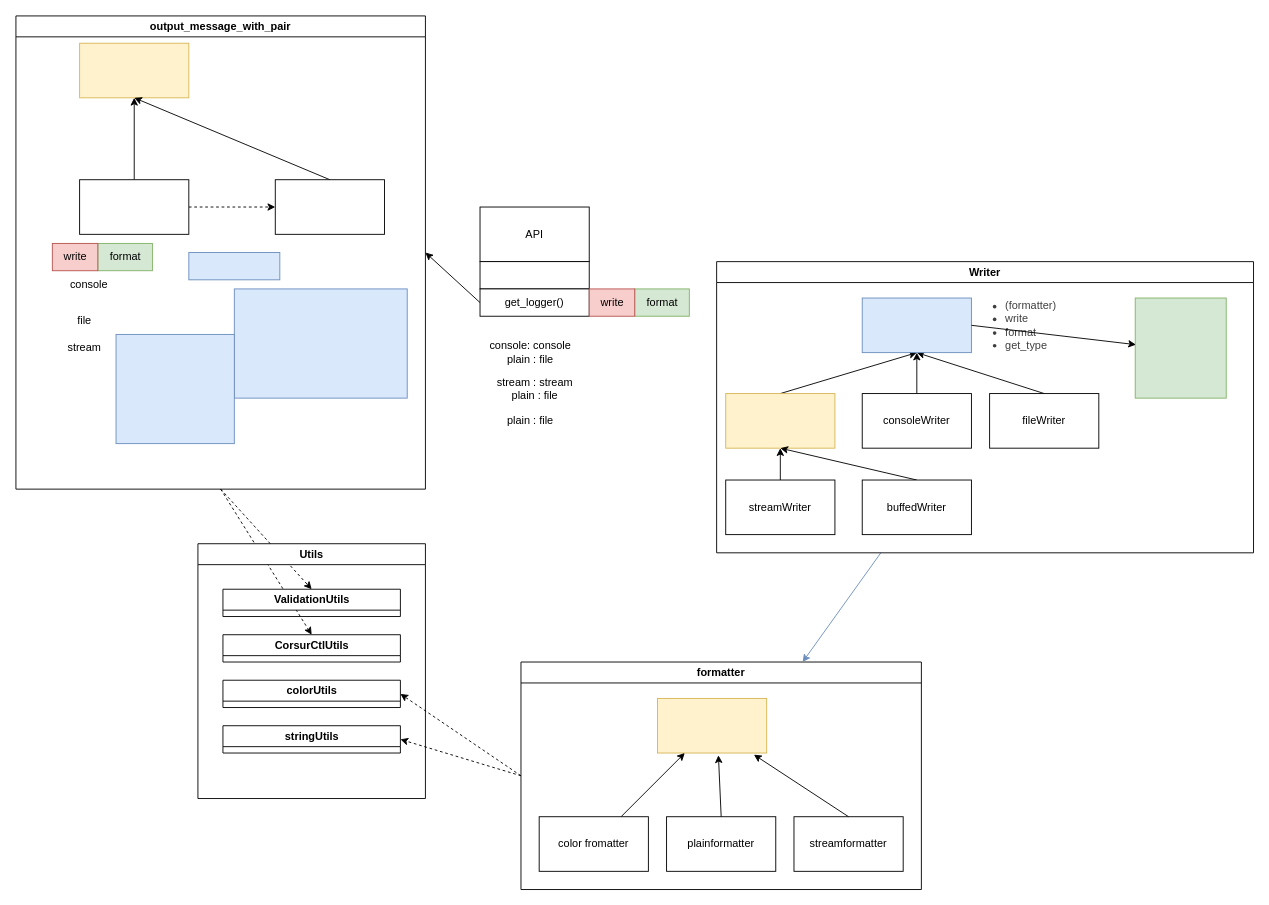
The diagram is 1269 pixels wide and 905 high, and some of its shapes have lost their labels. The box of each missing label's shape, as (x1, y1, x2, y2) in pixels:
basebuffer: (725, 393, 835, 448)
BaseFormatter: (657, 698, 767, 753)
core: (79, 42, 189, 98)
handle_validation_error create_log_entry format_message output_message: (233, 288, 407, 398)
Iwriter: (861, 297, 971, 353)
LOG_**(): (479, 261, 589, 289)
logger: (274, 179, 384, 234)
save curso move flush back to save: (115, 334, 234, 444)
stream set up: (188, 252, 280, 280)
streamer: (79, 179, 189, 234)
writer types console file stream: (1134, 297, 1226, 398)
